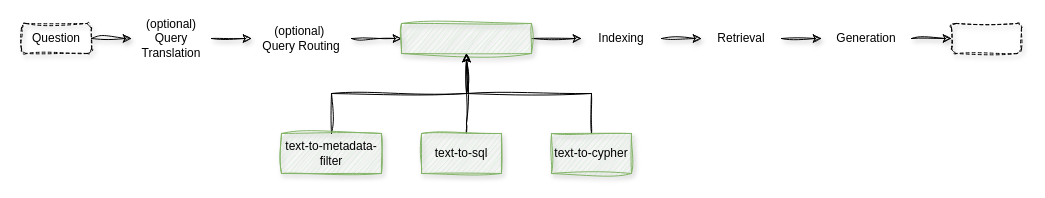
Some shapes in this 1045 by 198 pixel diagram are drawn without their labels. Each missing label, with the centre of its shape:
"Answer" belongs at (x=987, y=39).
"Query Construction" belongs at (x=467, y=39).
